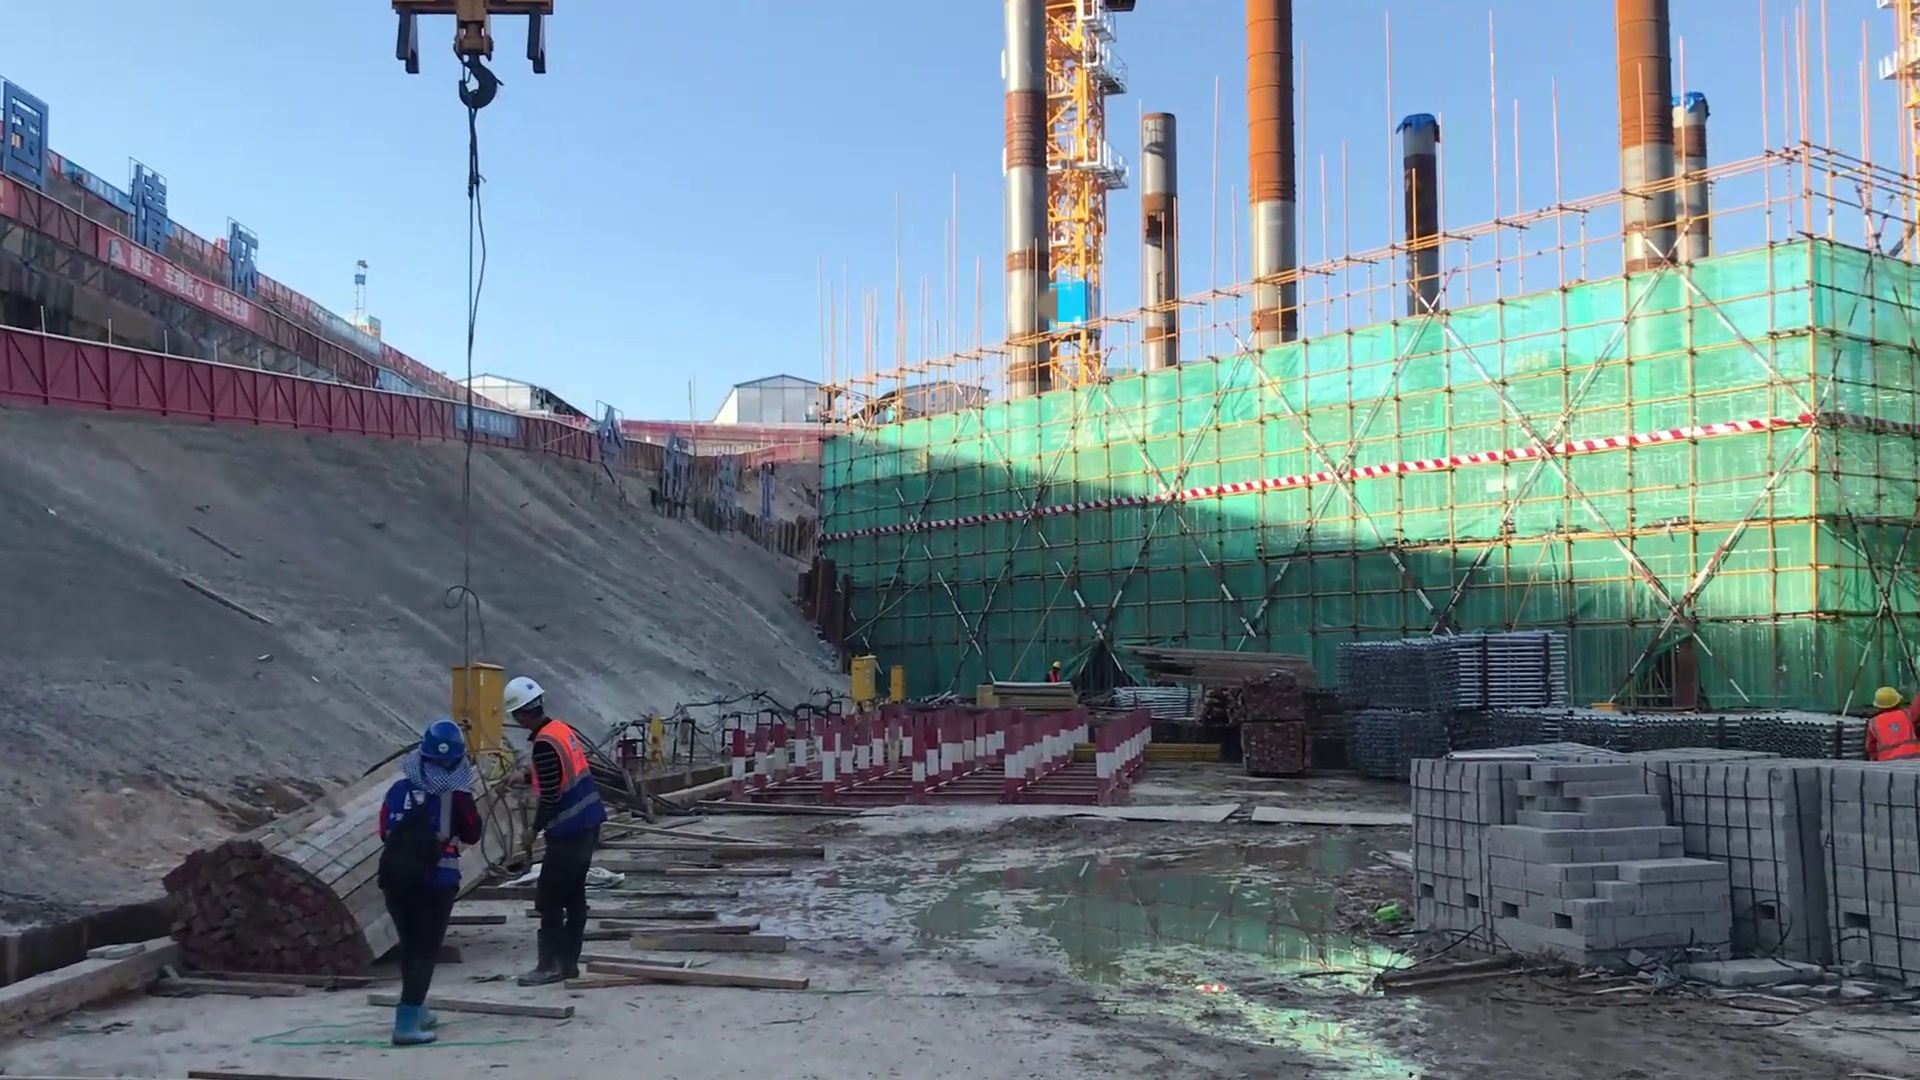brick: (1399, 734, 1920, 1014)
ebox: (451, 653, 514, 749), (849, 653, 877, 700), (887, 662, 909, 700)
fence: (7, 330, 218, 412), (218, 363, 434, 441)
helmet: (397, 723, 459, 787), (501, 676, 548, 737), (1868, 687, 1900, 718)
hook: (391, 1, 564, 75)
person: (495, 675, 602, 987), (370, 713, 468, 1052), (1855, 684, 1920, 765), (1045, 659, 1069, 686)
scaffold: (1426, 631, 1572, 708), (1335, 637, 1426, 714), (1340, 710, 1415, 773)
vest: (525, 719, 580, 798), (1868, 712, 1907, 761)
wood: (133, 789, 359, 996), (1113, 635, 1306, 695)
